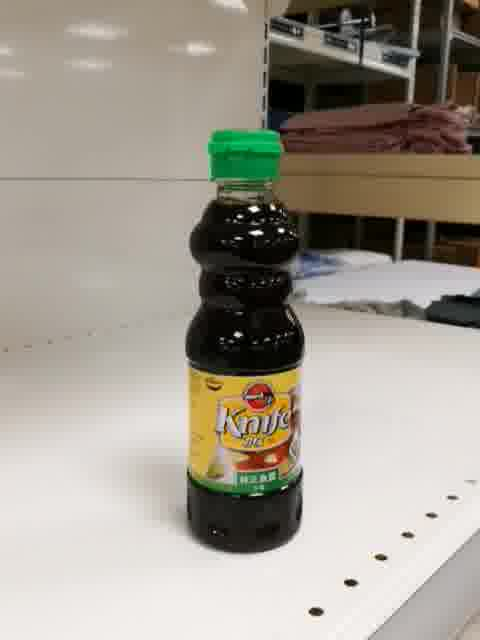cookingoil: (184, 128, 306, 554)
